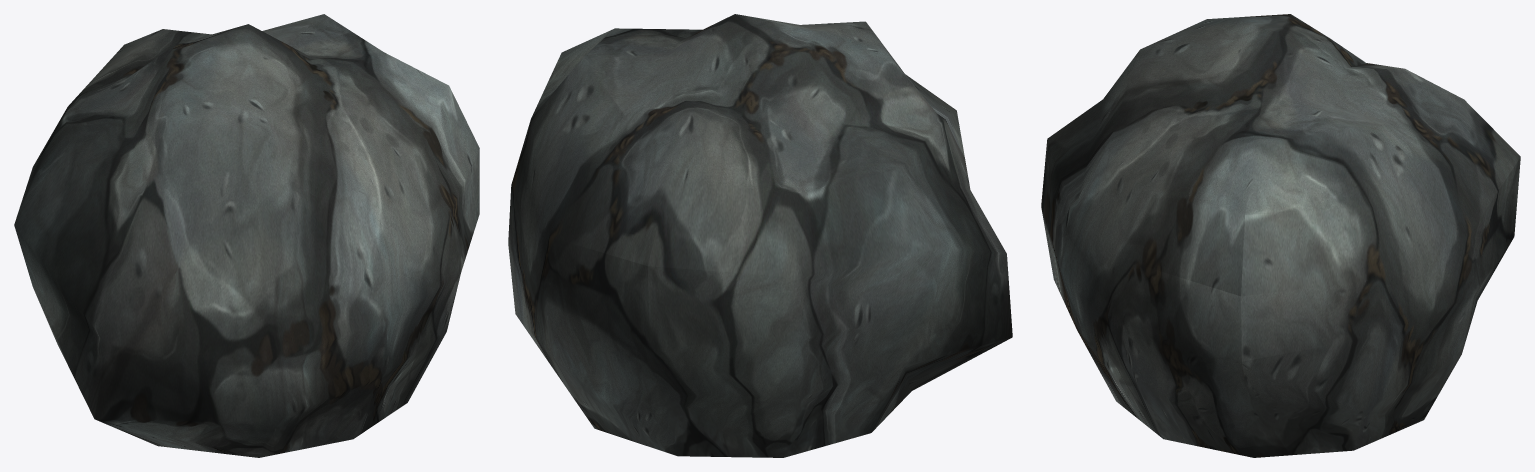
File: RockBoulder1.fbx
3 renders of one model, left to right at view 1: azimuth 30°, elevation 25°; view 2: azimuth 150°, elevation 25°; view 3: azimuth 270°, elevation 25°, orthographic. The views are drawn at different scales.
Visible parts, largest first — view 1: Mesh; view 2: Mesh; view 3: Mesh.
Part boxes in pixels (x1,y1,x2,y2): Mesh: (14,14,479,457); Mesh: (508,14,1012,457); Mesh: (1041,14,1520,457).
Bounding box in the file's own units: 350 × 281 × 341.
